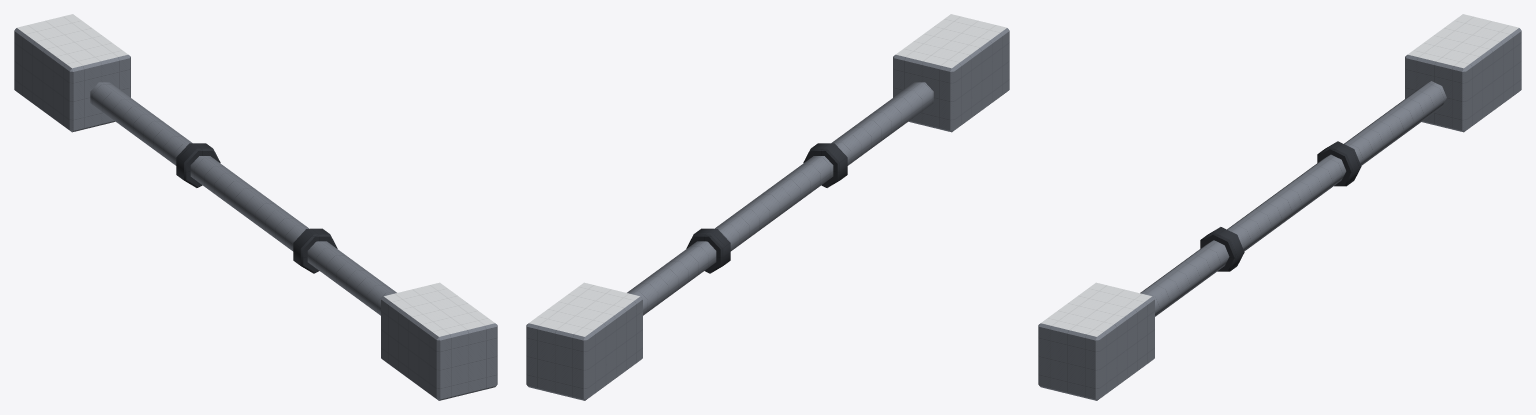
The model's file is R4C_ROD_LONG_LOD1.glb.
3 renders of one model, left to right at view 1: azimuth 30°, elevation 25°; view 2: azimuth 150°, elevation 25°; view 3: azimuth 330°, elevation 25°, orthographic.
Parts seen in each view (by area): view 1: R4C_ROD_LONG_LOD1; view 2: R4C_ROD_LONG_LOD1; view 3: R4C_ROD_LONG_LOD1.
Part boxes in pixels (bbox=[...]): R4C_ROD_LONG_LOD1: bbox=[14, 14, 497, 400]; R4C_ROD_LONG_LOD1: bbox=[526, 14, 1009, 400]; R4C_ROD_LONG_LOD1: bbox=[1038, 14, 1521, 400].
Size of the model in its own units: 0.226 by 0.226 by 2.72.
3 materials, 3 textured.
